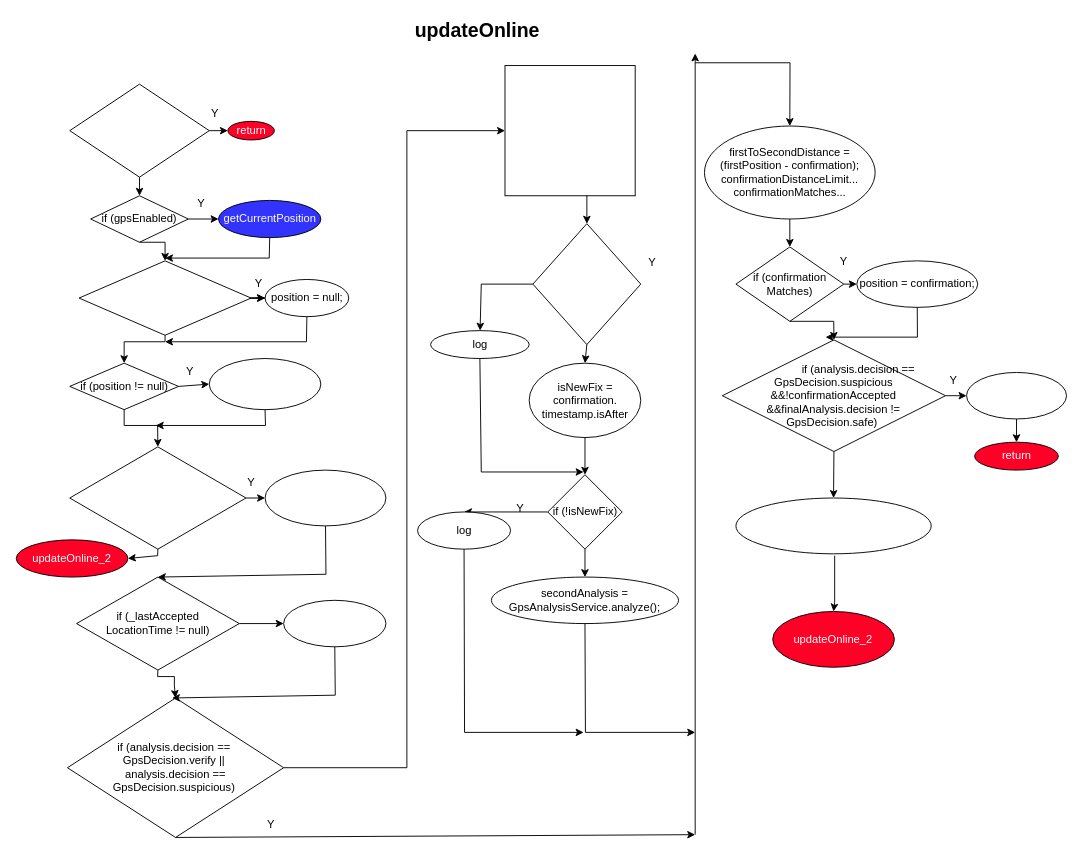
The diagram is 1083 pixels wide and 861 high, and some of its shapes have lost their labels. Here are the shapes that lost their labels. From the top down, the centre of each, then its label:
At (139,130): "if (groupId == null || locatorId == null)".
At (569,130): "firstPosition = position; ... confirmation = await _getConfirmationPosition".
At (164,297): "if (position != null && position.accuracy > 50)".
At (586,284): "if (confirmation == null)".
At (264,384): "speedMps = position.speed;...".
At (1016,395): "rejected -> db".
At (157,497): "if (position != null && _lastLat != null && _lastLng != null)".
At (325,497): "movedMeters= | last - position |".
At (833,525): "SmartPresenceScheduler. setSpeedKmh(speedKmh,);}".
At (334,623): "elapsedSeconds = ...".
